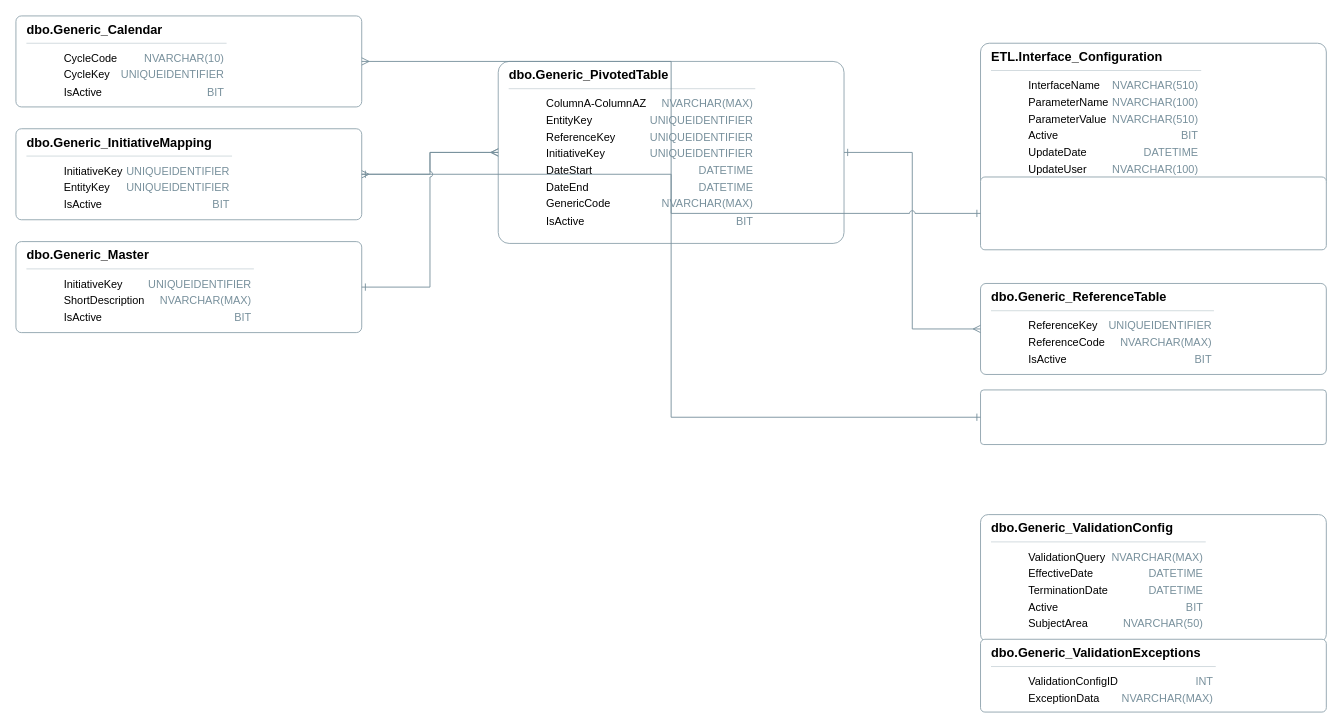
The diagram is 1342 pixels wide and 728 high, and some of its shapes have lost their labels. Each missing label, with the centre of its shape:
"dbo.Generic_Initiative InitiativeKey UNIQUEIDENTIFIER IsActive BIT" belongs at point (1153, 213).
"dbo.Generic_StagingTable CycleKey UNIQUEIDENTIFIER" belongs at point (1153, 417).
